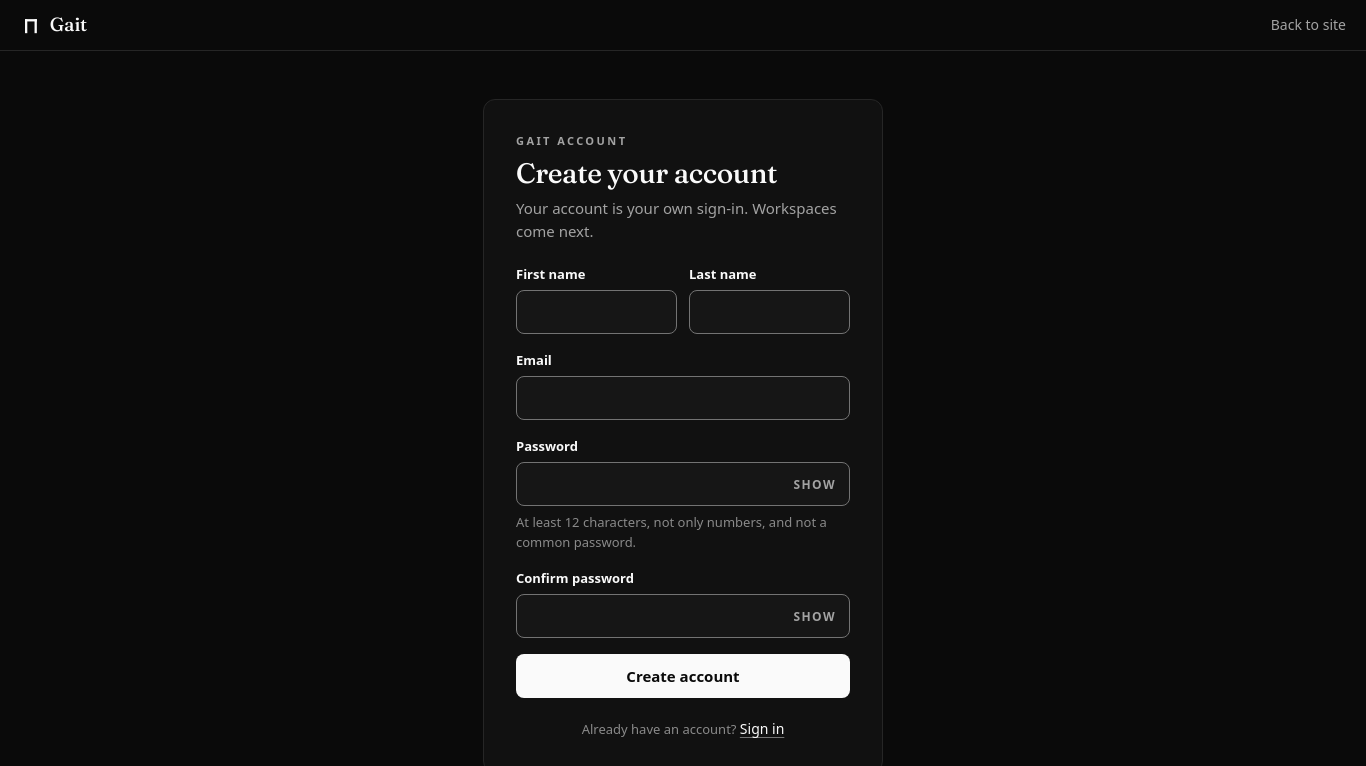
create account › Gait's stringified password rules show as sentences on the field, never ['…']
Type "Maya" into the field labelled "First name" at {"x": 596, "y": 312}, box [516,290,677,334]
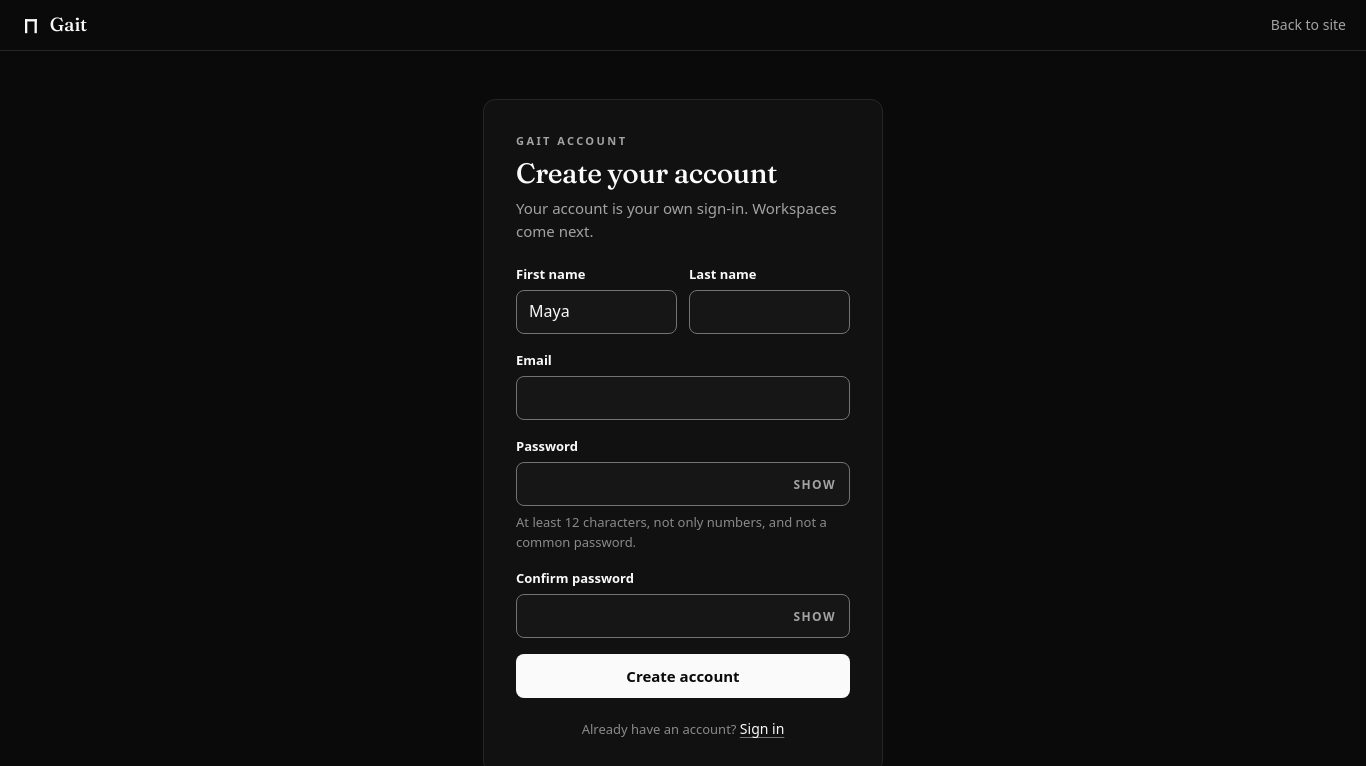
Type "Okafor" into the field labelled "Last name" at {"x": 770, "y": 312}, box [689,290,850,334]
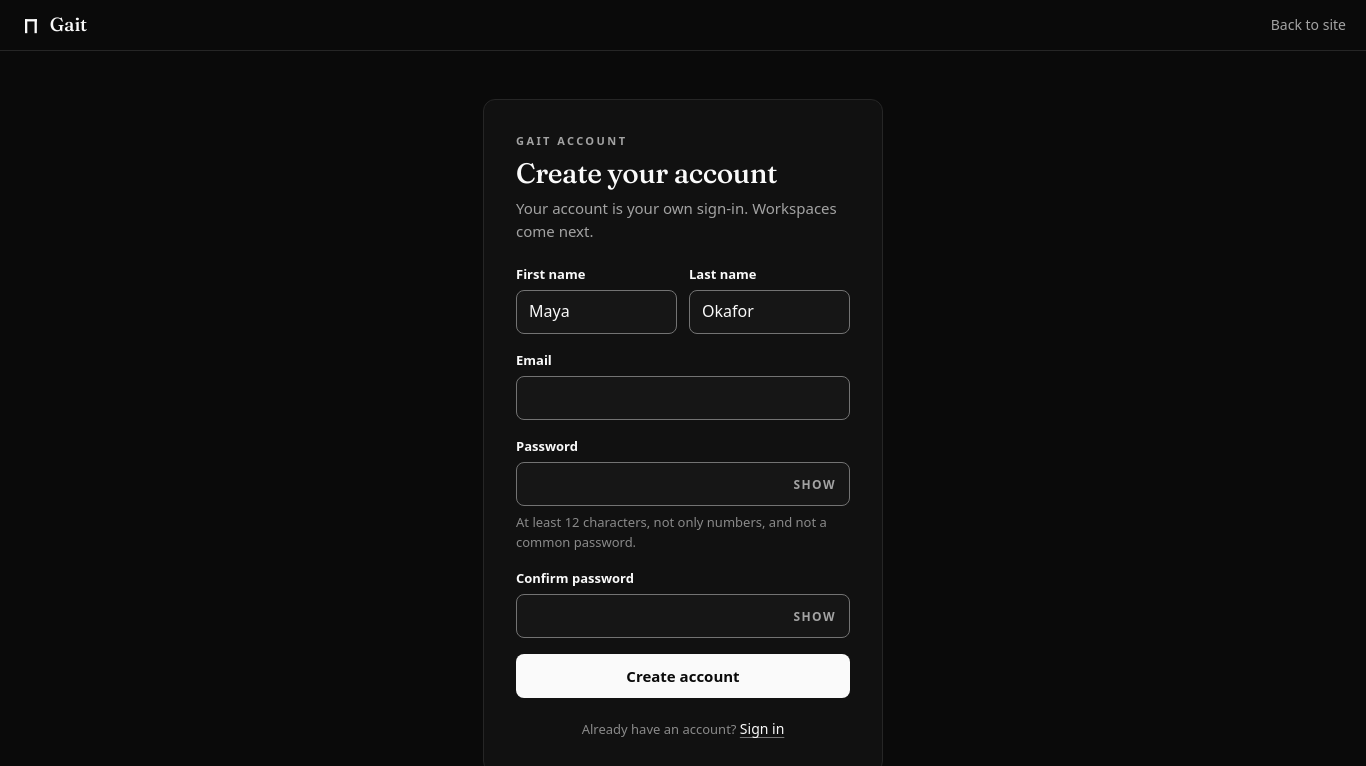
Type "maya@example.test" into the field labelled "Email" at {"x": 683, "y": 398}, box [516,376,850,420]
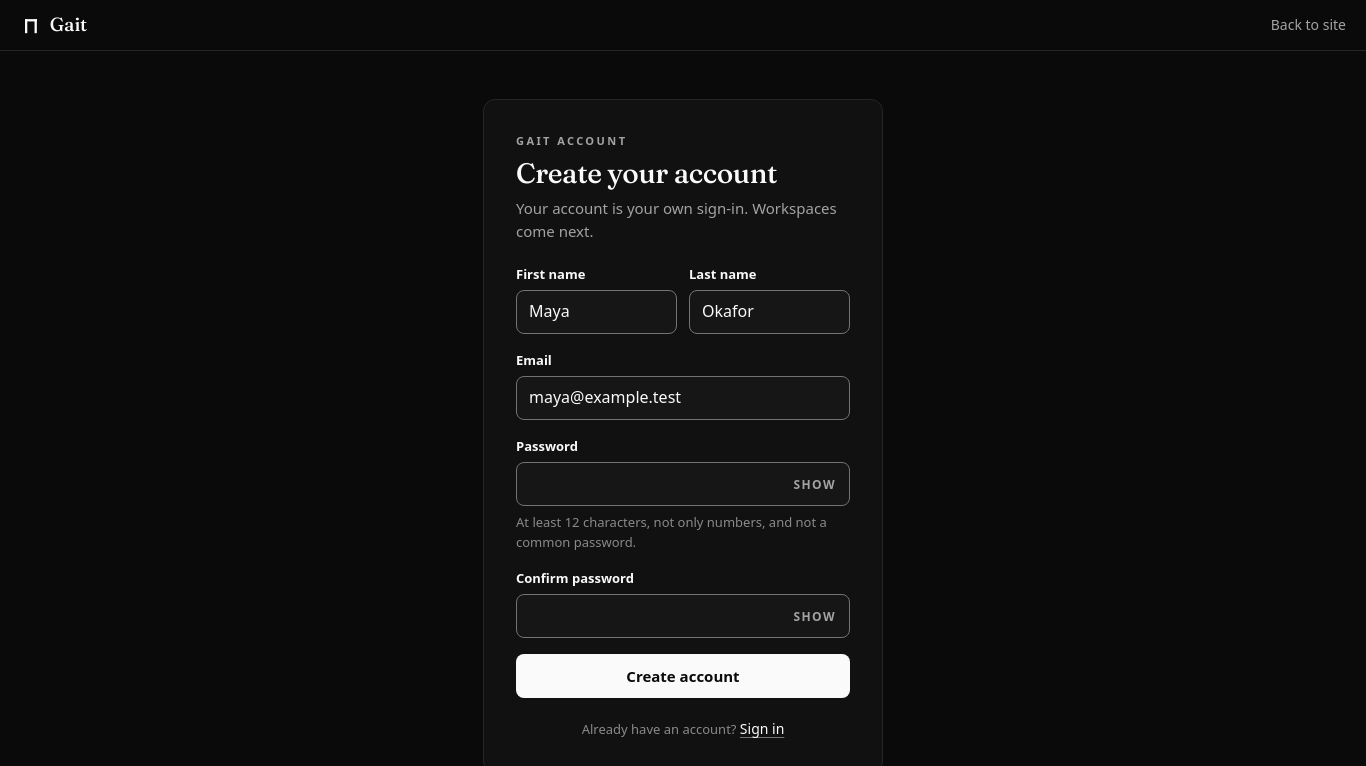
Type "test-only-passphrase" into the password field labelled "Password" at {"x": 683, "y": 484}, box [516,462,850,506]
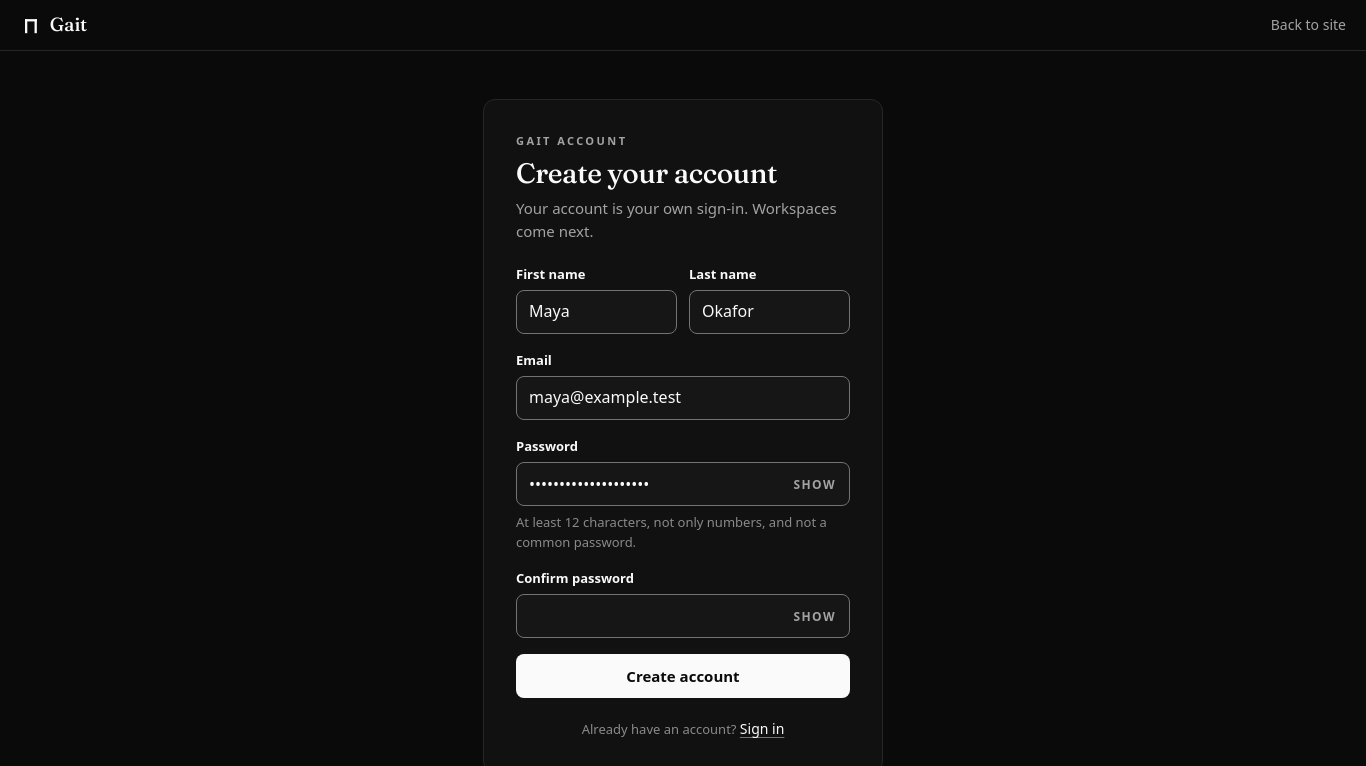
Type "test-only-passphrase" into the password field labelled "Confirm password" at {"x": 683, "y": 616}, box [516,594,850,638]
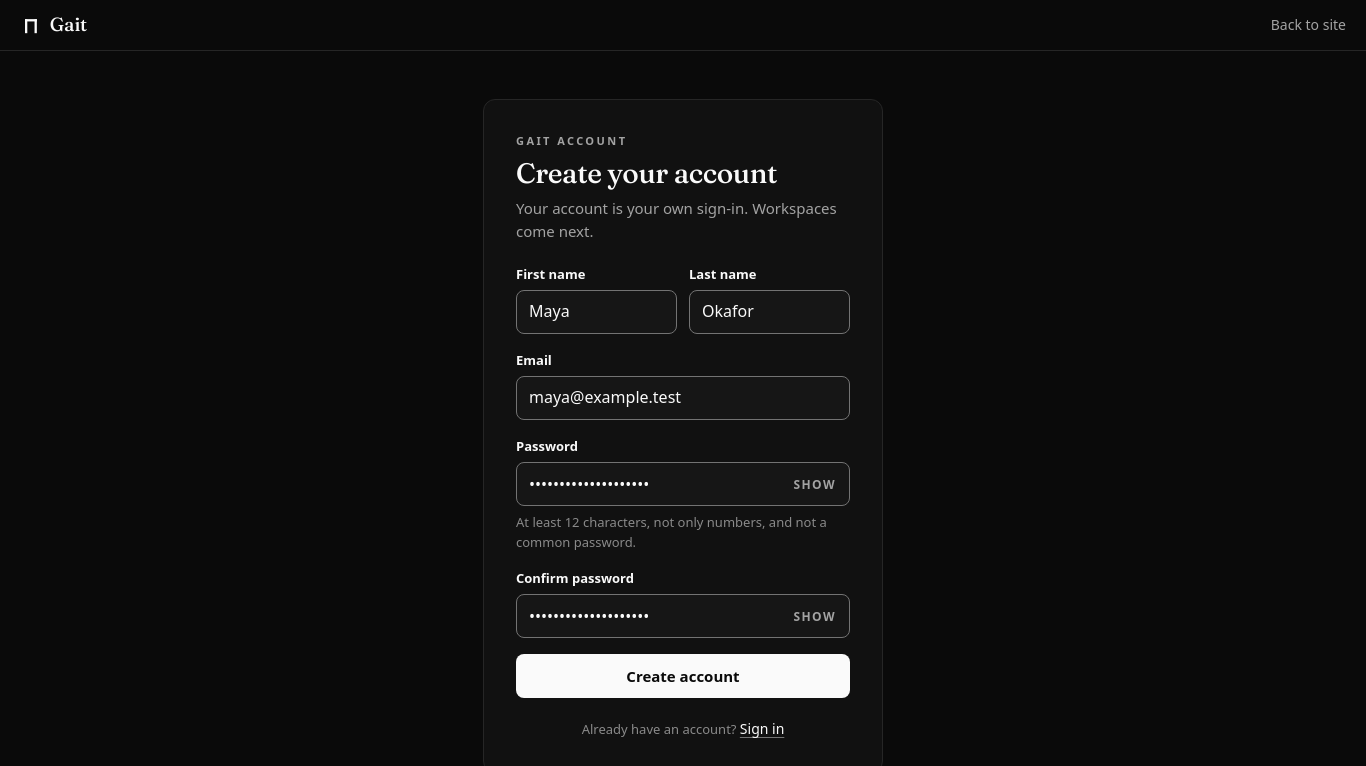
Click the button "Create account" at {"x": 683, "y": 676}, box [516,654,850,698]
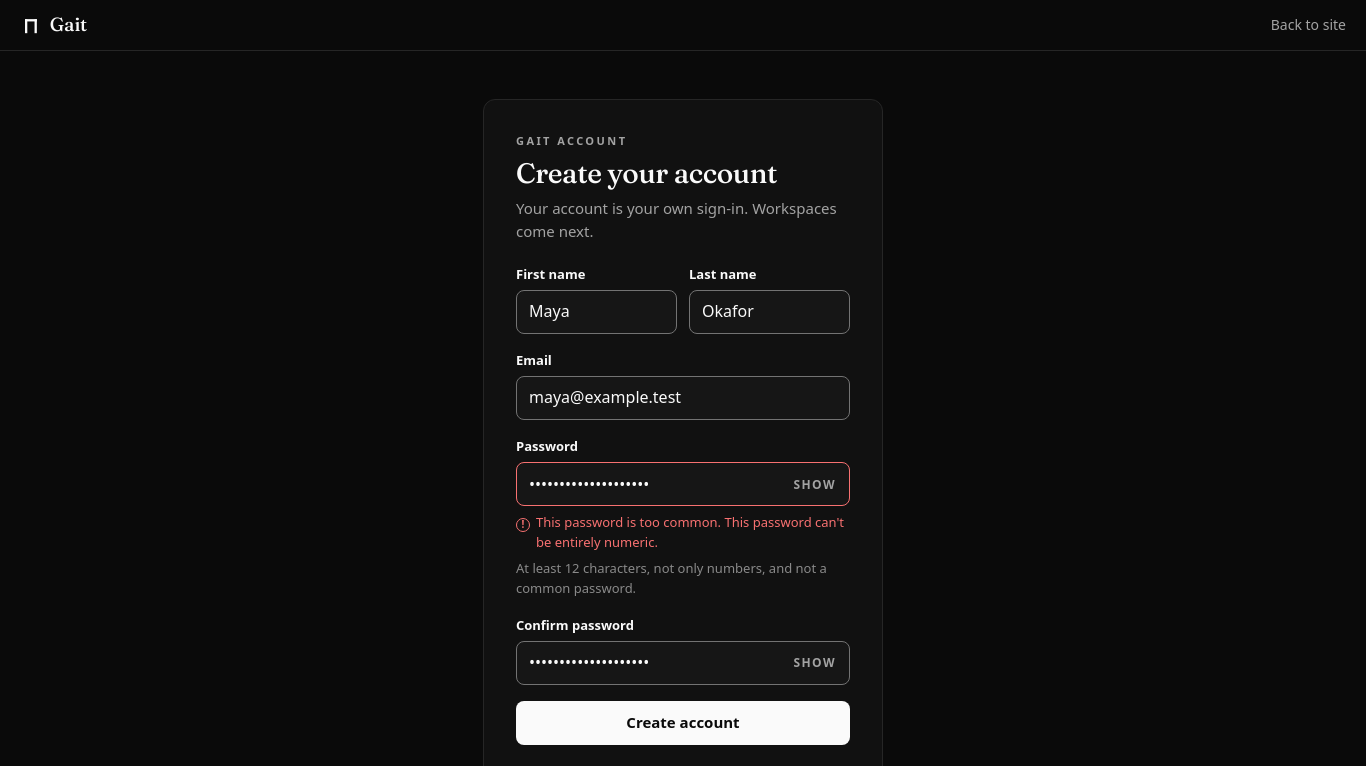
expect the text "This password is too common. This password can't be entirely numeric." is shown: met, box [516,512,850,552]
